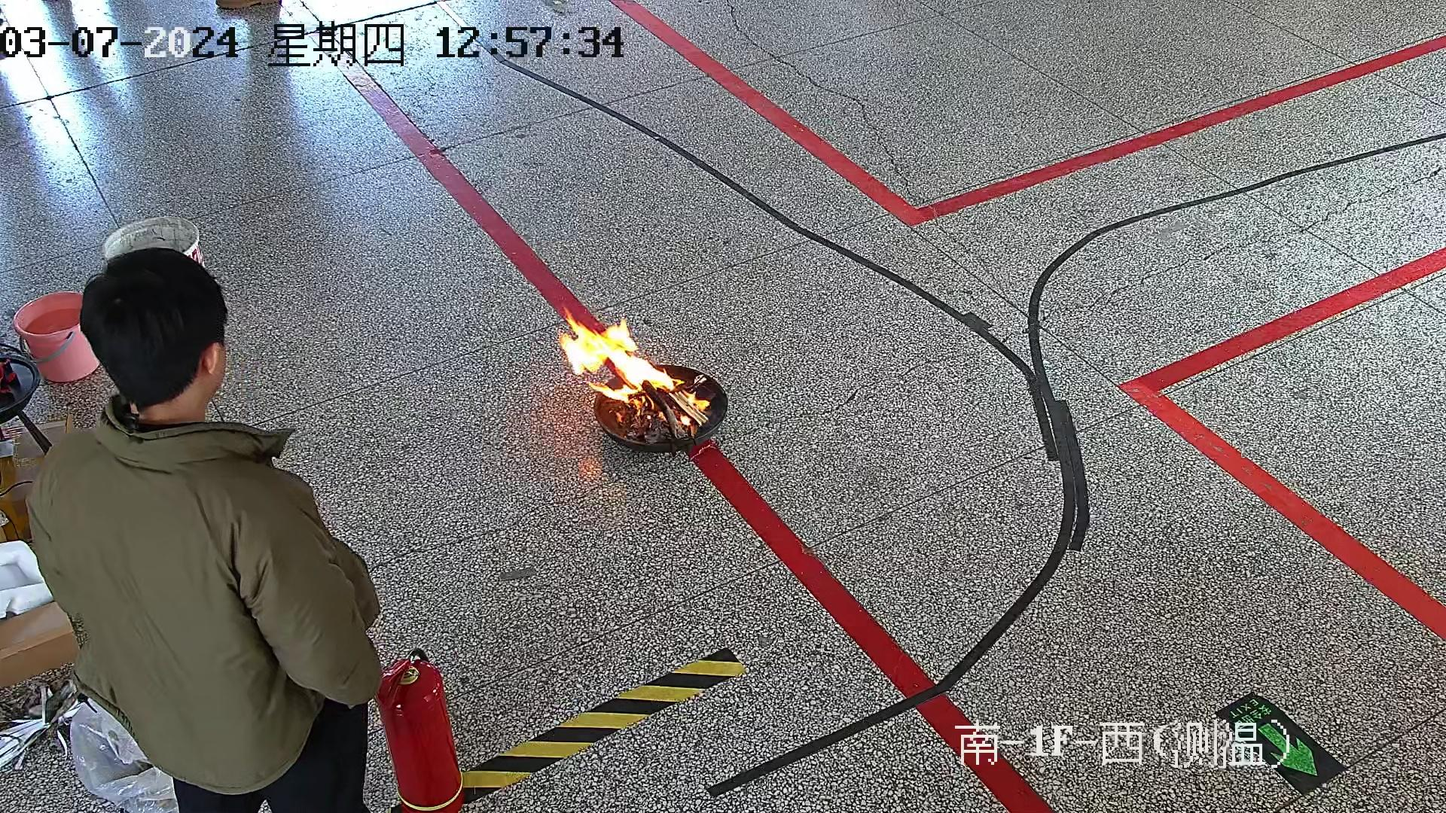fire: (560, 315, 711, 422)
